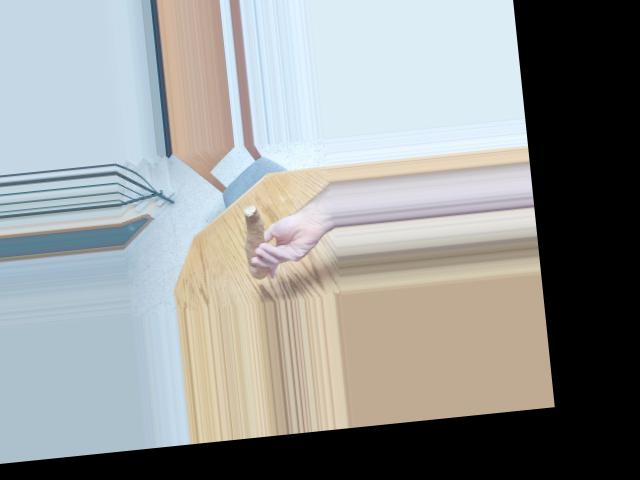sweet_potato: (235, 208, 273, 276)
